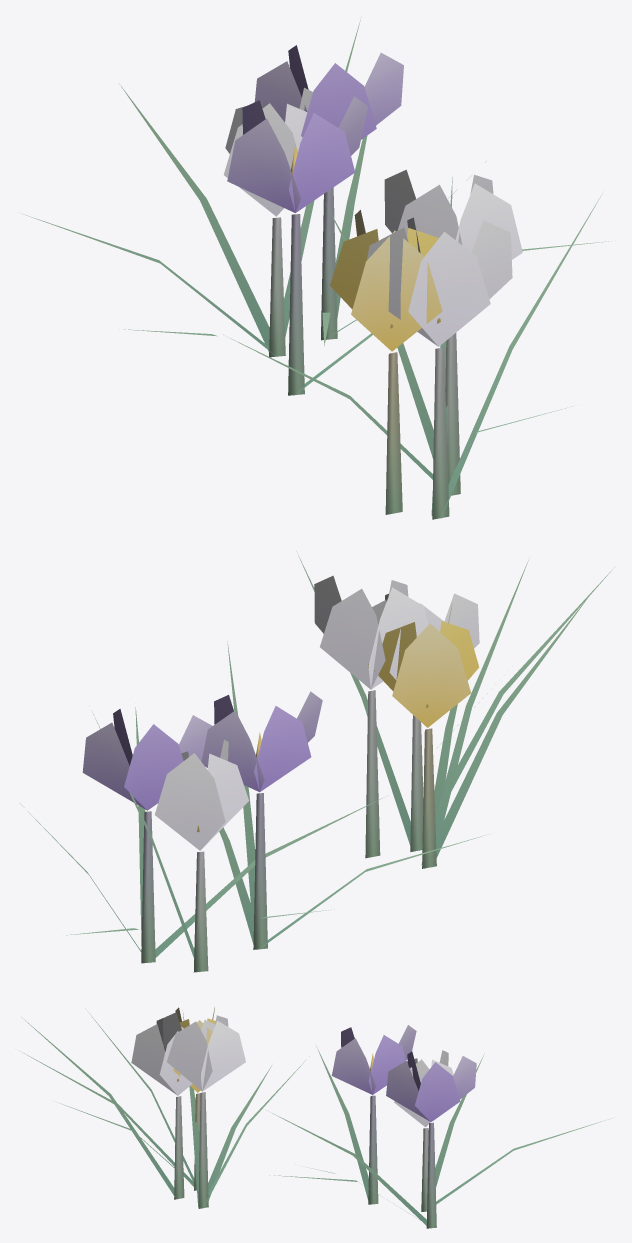
File: crocus_patch_a_mid.glb
3 views of the same model, one above another, from view 1: azimuth 30°, elevation 25°; view 2: azimuth 150°, elevation 25°; view 3: azimuth 270°, elevation 25° (orthographic). The views are drawn at different scales.
Visible parts, largest first — view 1: soft; view 2: soft; view 3: soft.
Boxes of the visible parts, x1,y1,x2,y2 form: soft: [21, 17, 611, 519]; soft: [20, 551, 614, 972]; soft: [20, 1007, 611, 1228].
Bounding box in the file's own units: 0.4182 × 0.2826 × 0.791.
